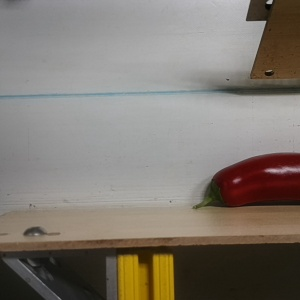Cut Point: (200, 173, 243, 207)
